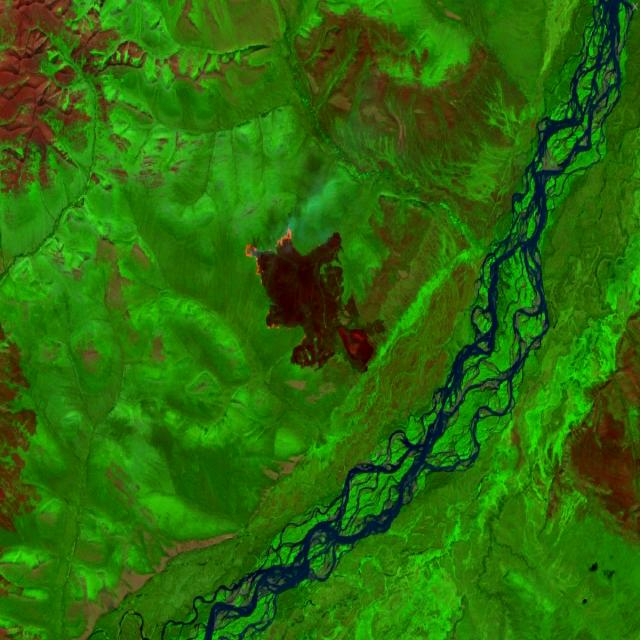fire: (238, 225, 305, 335)
